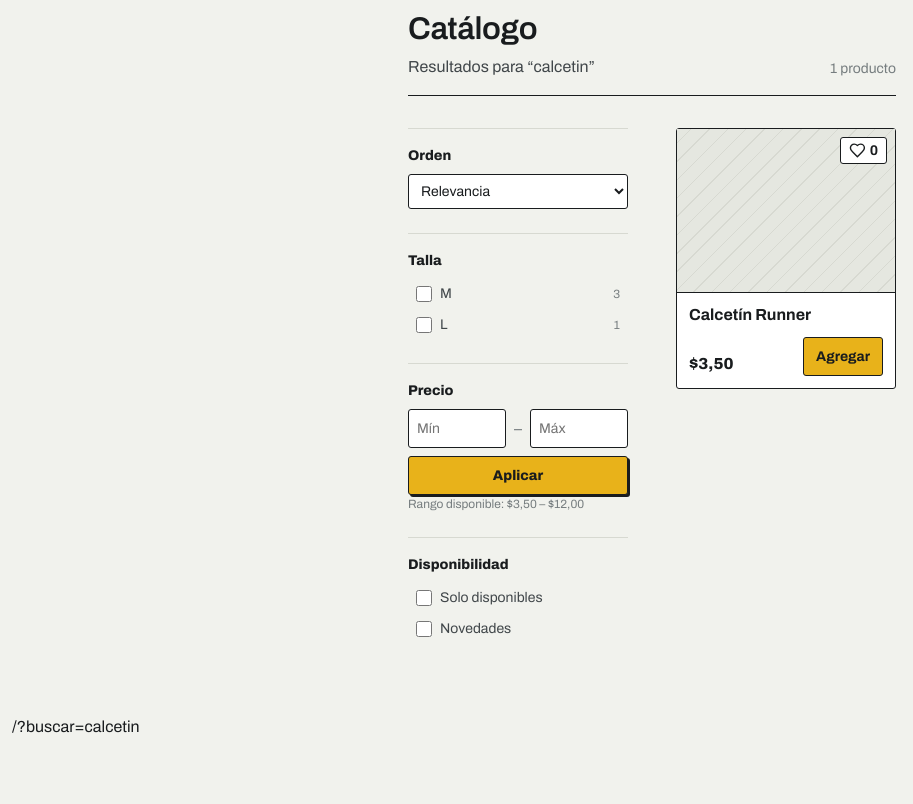
Test case: CatalogPage › al marcar una faceta limpia el buscador y la URL
The image size is (913, 804).
Click the checkbox labelled "M 3" at (424, 294), box [416,286,432,302]
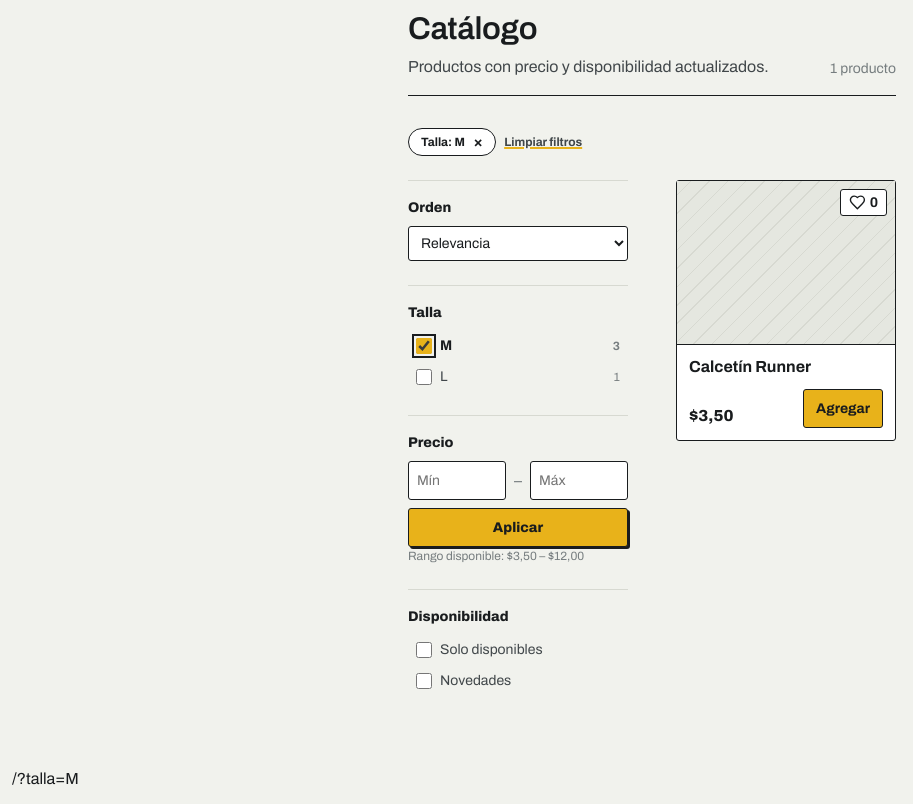
expect the text with test id "location" no longer shows "buscar=": met, box [12,770,79,787]
